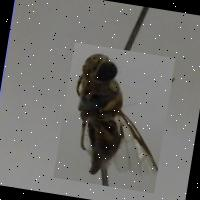Oriental-fruit-fly: (54, 41, 176, 192)
